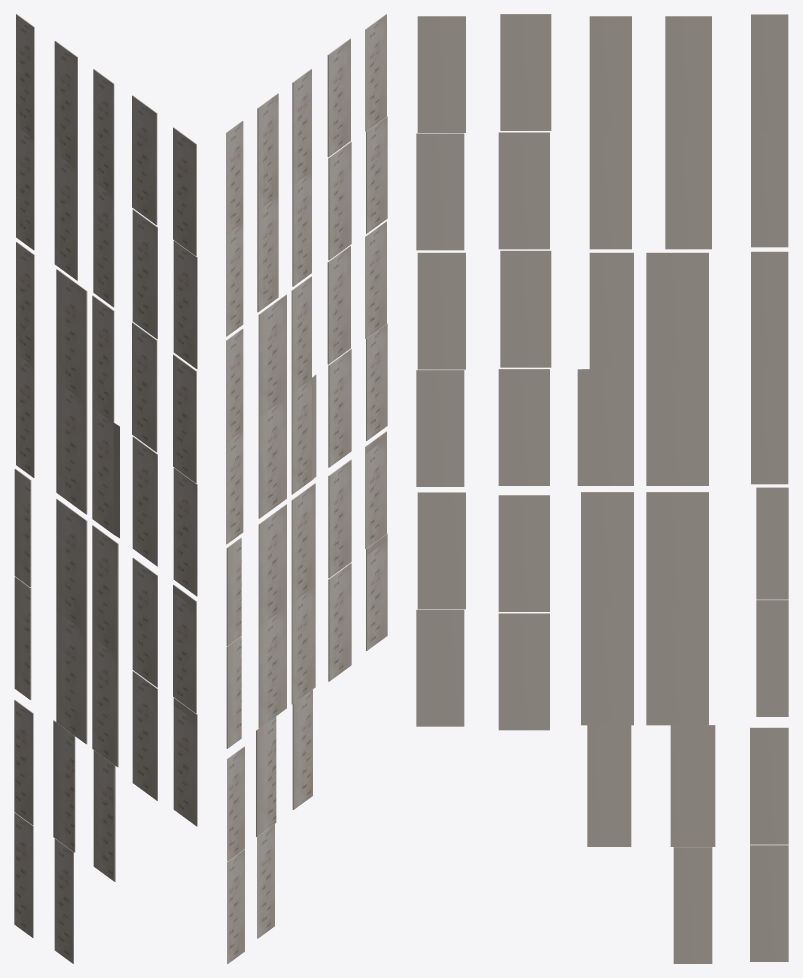
3 renders of one model, left to right at view 1: azimuth 30°, elevation 25°; view 2: azimuth 150°, elevation 25°; view 3: azimuth 270°, elevation 25°, orthographic. The views are drawn at different scales.
Visible parts, largest first — view 1: Plane008; view 2: Plane008; view 3: Plane008.
Boxes of the visible parts, x1,y1,x2,y2 form: Plane008: [14, 14, 197, 963]; Plane008: [226, 14, 387, 963]; Plane008: [416, 14, 788, 963].
Size of the model in its own units: 0.5092 by 97.47 by 34.67.
1 material, 1 textured.
